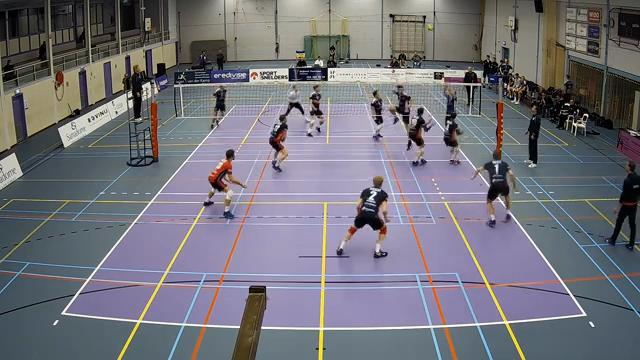attacco: (438, 78, 461, 126)
